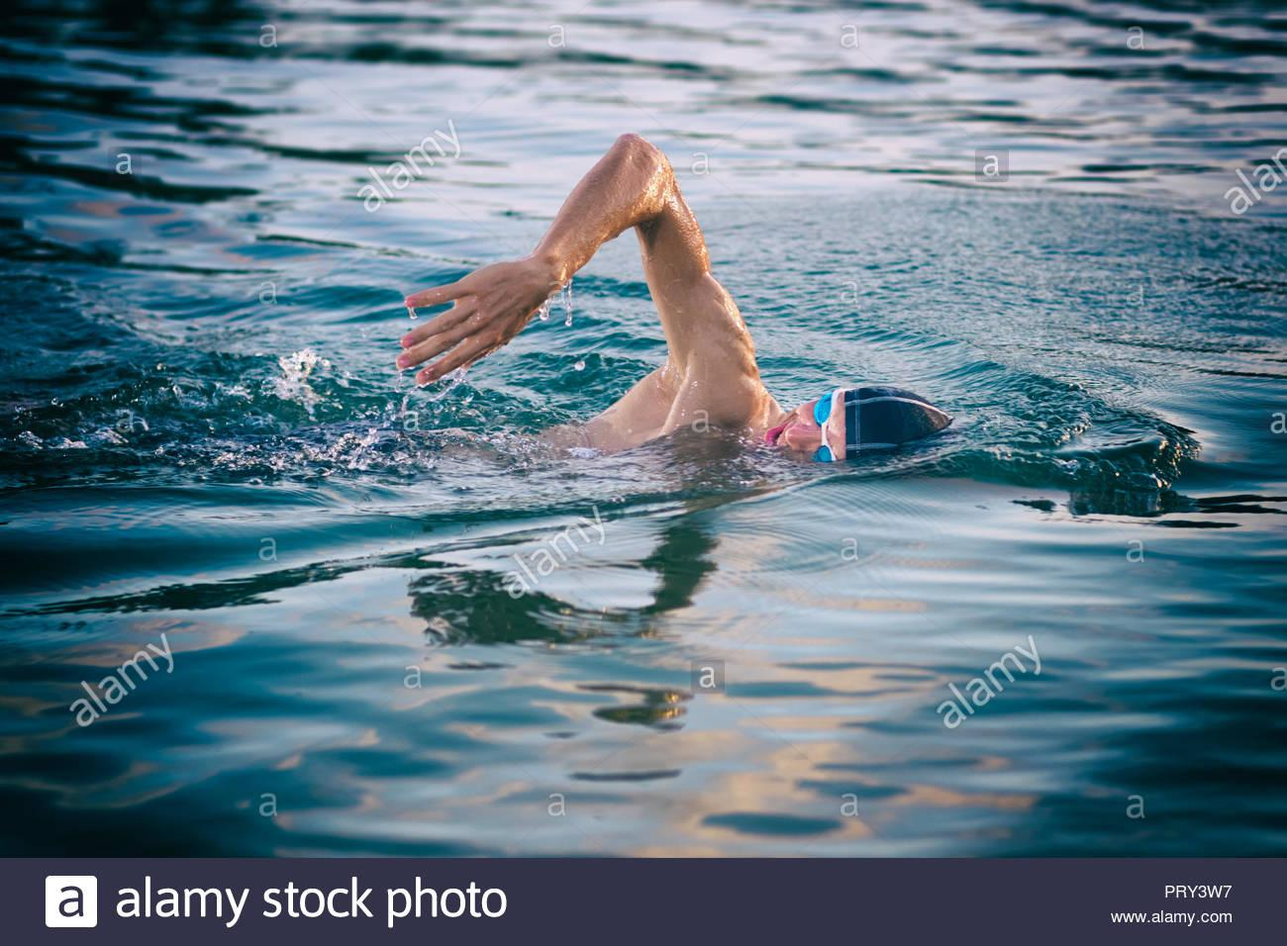swimmer: (389, 121, 960, 469)
